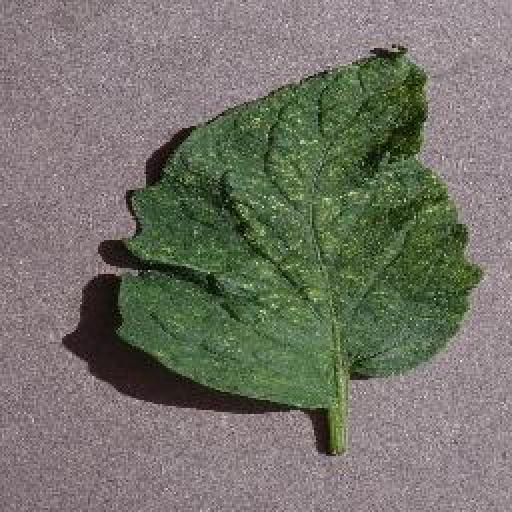Spider Mites: (112, 43, 485, 405)
